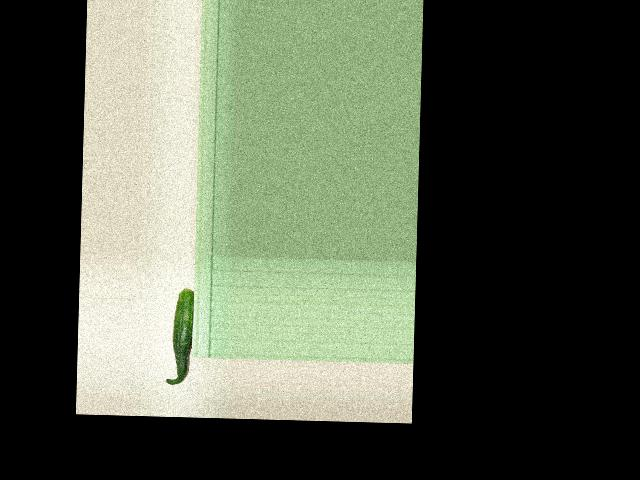cucumber: (166, 288, 194, 385)
